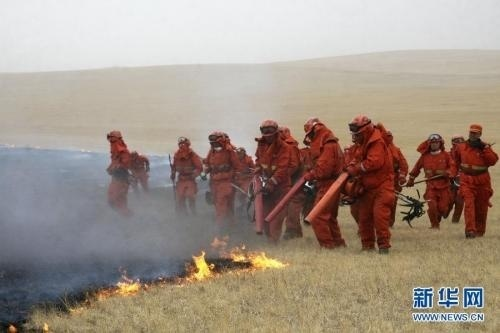fire: (80, 237, 290, 292)
